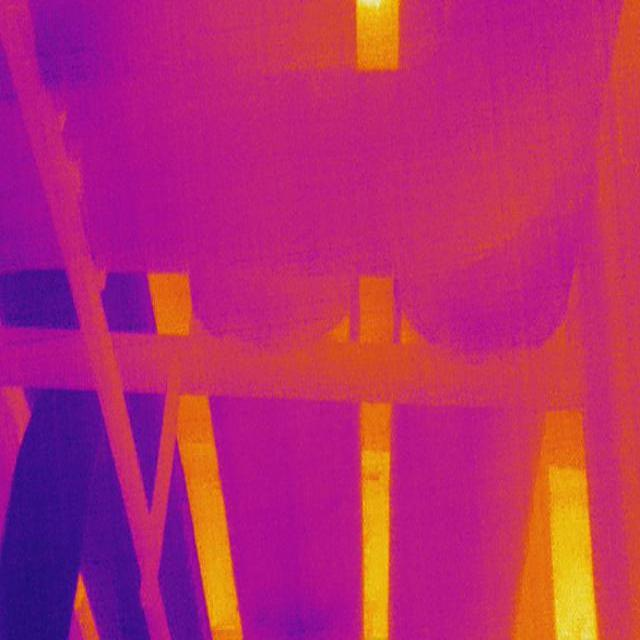leakage: (246, 599, 336, 640)
